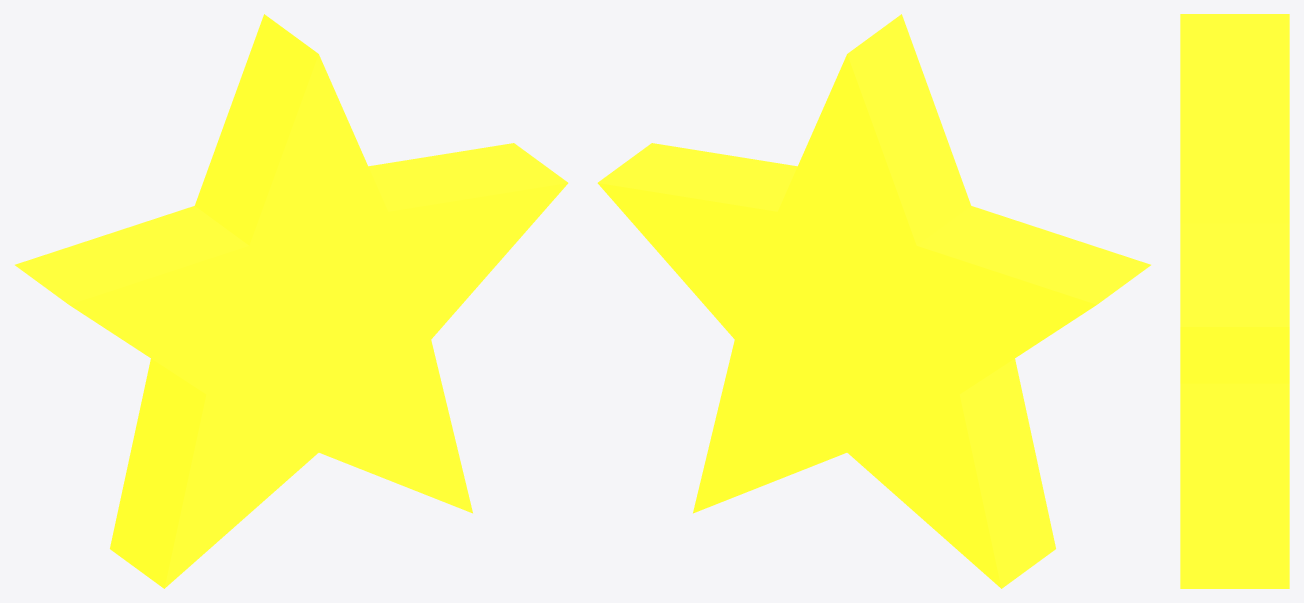
The model's file is star.glb.
3 renders of one model, left to right at view 1: azimuth 30°, elevation 25°; view 2: azimuth 150°, elevation 25°; view 3: azimuth 270°, elevation 25°, orthographic.
Parts seen in each view (by area): view 1: Star.001; view 2: Star.001; view 3: Star.001.
Part boxes in pixels (left/top/right/bottom): Star.001: left=15, top=14, right=568, bottom=588; Star.001: left=597, top=14, right=1150, bottom=588; Star.001: left=1180, top=14, right=1289, bottom=588.
Size of the model in its own units: 0.9511 by 0.9045 by 0.18.
